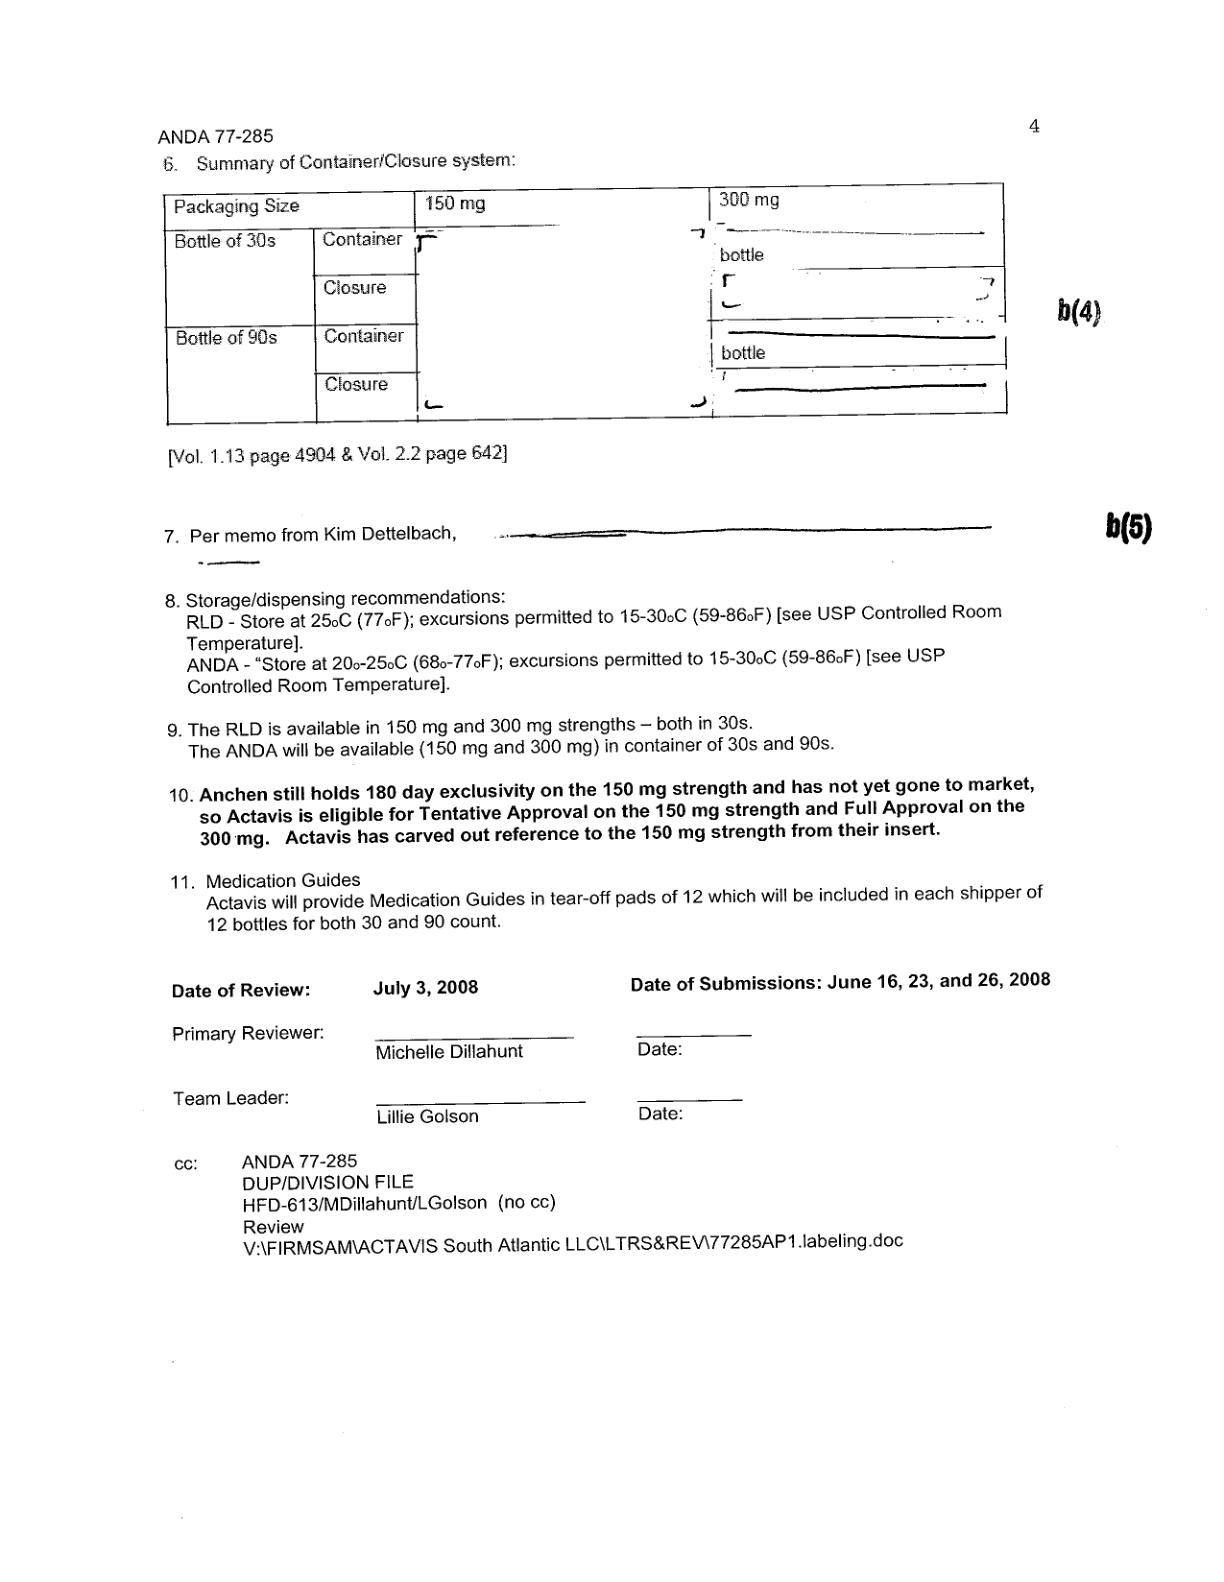merged_cells: (162, 180, 1010, 428)
nolines: (167, 969, 1056, 1130)
